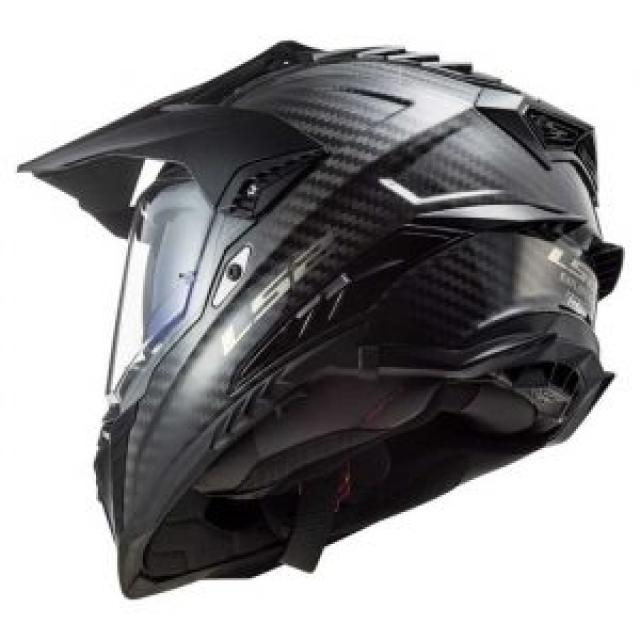Helmet: (0, 22, 632, 615)
